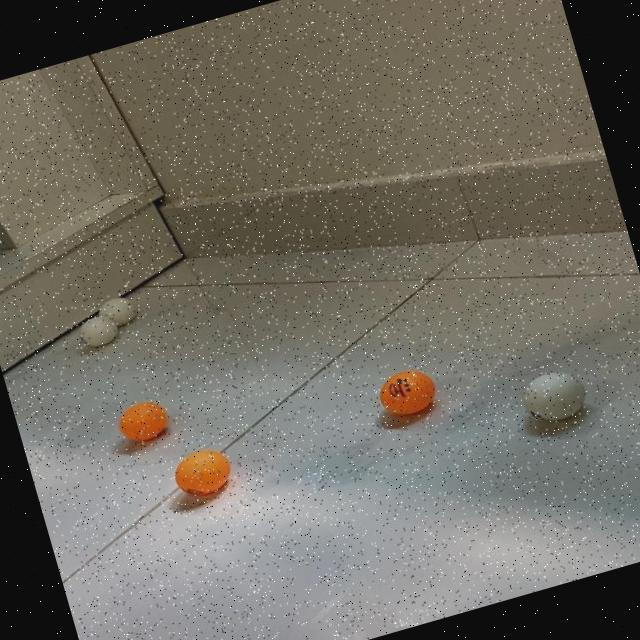ping-pong-ball: (518, 364, 592, 428), (168, 441, 235, 501), (374, 363, 440, 420), (114, 396, 174, 446), (77, 312, 122, 351), (94, 292, 140, 330)
